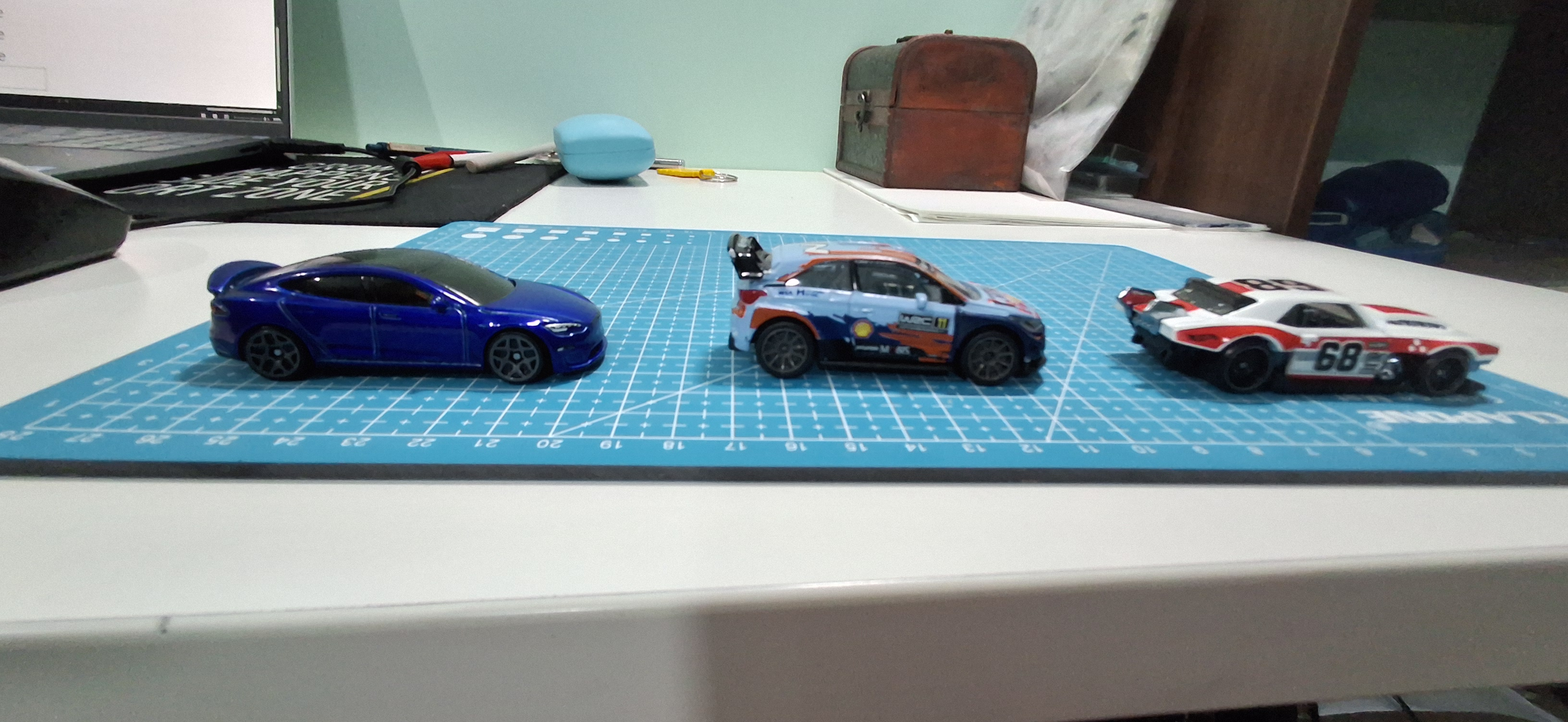Camaro: (1100, 232, 1518, 424)
Hyundai_I20_WRC: (691, 219, 1064, 405)
Tesla_Model_S_Plaid: (165, 212, 635, 393)
